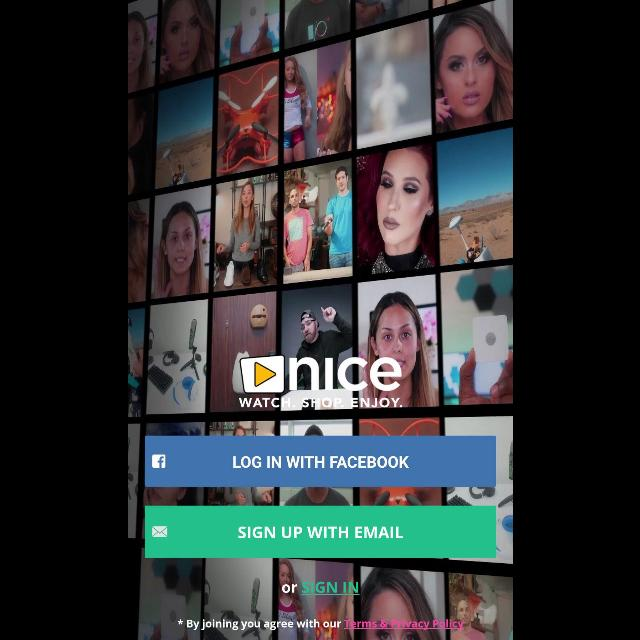backgroundimage: (128, 1, 512, 640)
image: (238, 354, 400, 408)
text: (176, 620, 464, 630), (301, 582, 359, 594), (281, 584, 297, 594)
textbutton: (144, 506, 496, 558), (144, 436, 496, 486)
